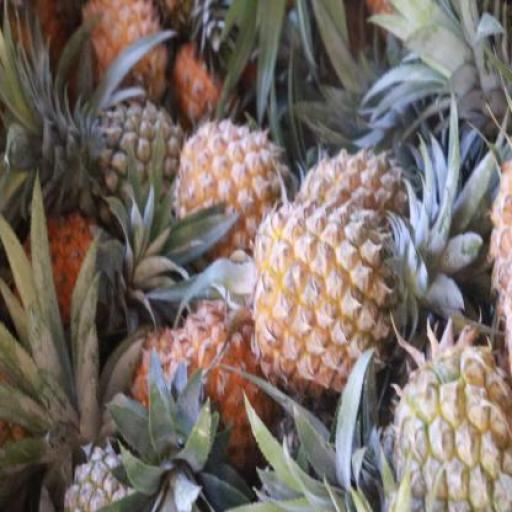------------------------------: (381, 340, 512, 511)
Pineapple - v8 v1: (246, 198, 387, 390), (167, 295, 276, 500), (171, 117, 289, 244)
